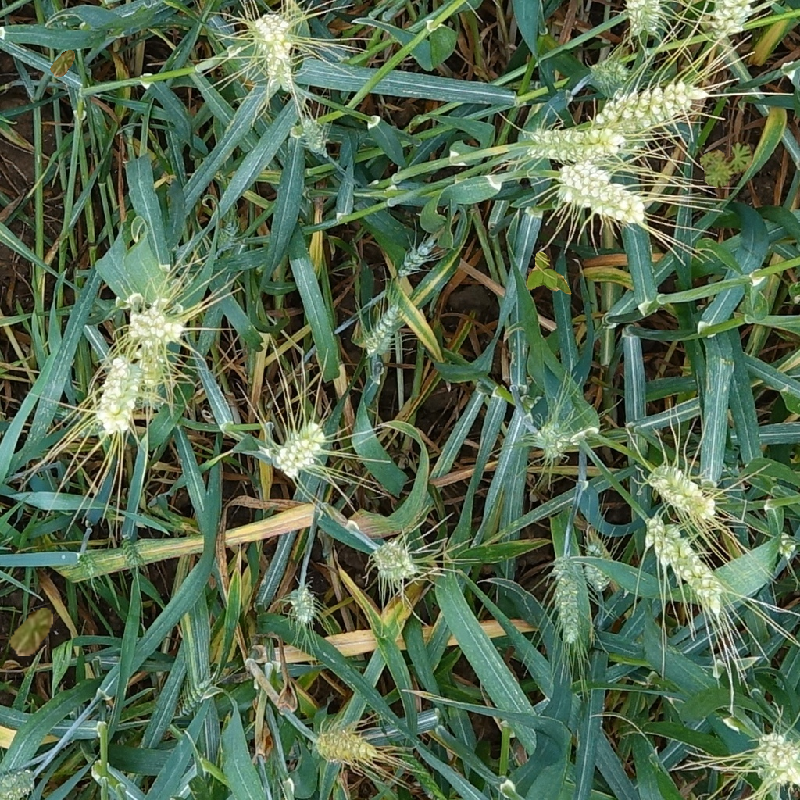spikelet: (638, 510, 730, 613), (588, 72, 711, 135), (550, 158, 652, 229), (641, 455, 722, 522), (88, 348, 146, 439), (517, 117, 631, 163), (244, 5, 302, 93), (545, 546, 593, 650), (305, 718, 383, 770), (269, 415, 330, 480), (747, 723, 799, 791), (121, 299, 191, 349), (357, 299, 409, 359), (701, 1, 776, 40), (366, 534, 421, 587), (170, 672, 222, 724), (392, 229, 445, 280), (528, 414, 577, 463), (579, 534, 616, 596), (282, 576, 324, 629), (288, 110, 334, 158), (582, 50, 633, 93), (694, 145, 738, 192), (618, 1, 669, 38), (1, 763, 40, 800), (774, 528, 800, 564)
weed: (693, 132, 761, 194), (524, 250, 578, 299), (9, 608, 53, 656), (50, 50, 75, 77)
